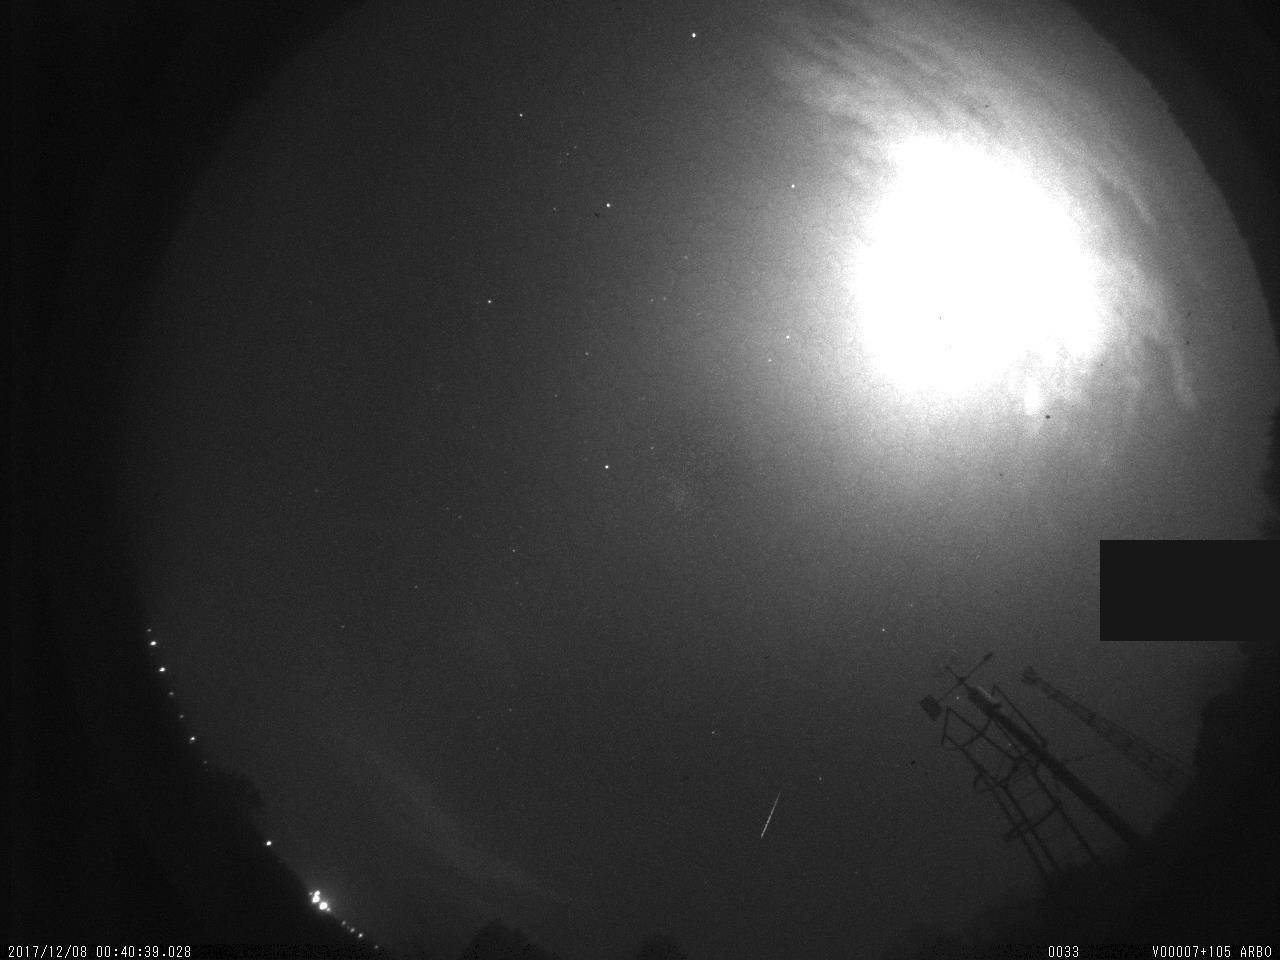Meteor: (757, 790, 782, 840)
